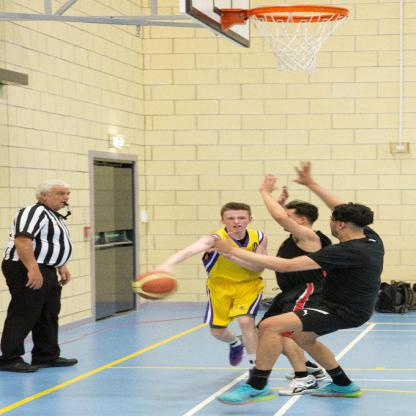Ball: (130, 271, 179, 302)
